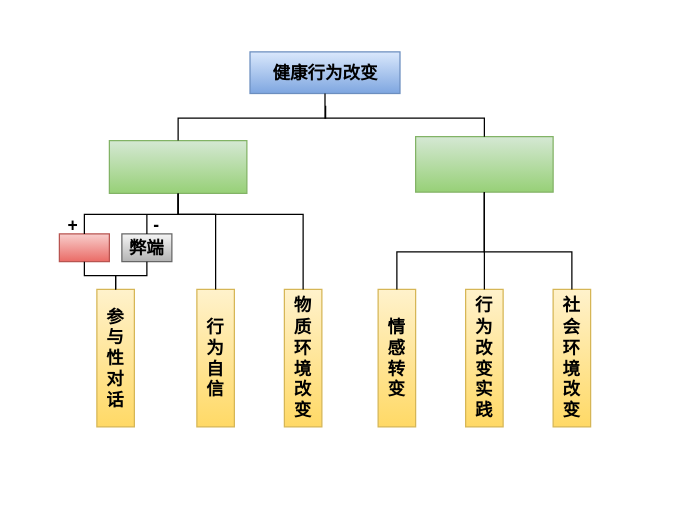
This 693x530 diagram has some shape labels left out. Each missing label, with the box of its shape:
益处: (58, 233, 109, 262)
行为改变的启动/一次行为改变: (108, 139, 247, 193)
行为改变的维持/长期行为改变: (414, 135, 553, 192)
